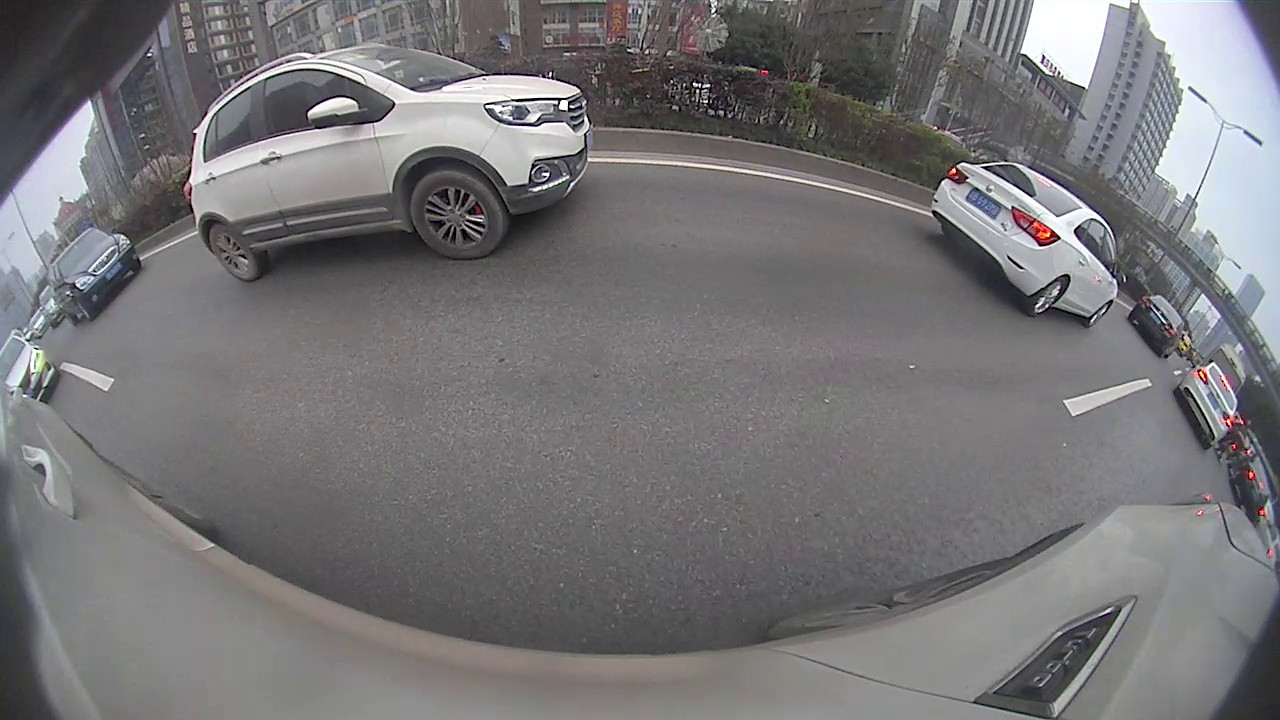bus: (1110, 194, 1268, 366), (128, 185, 336, 305)
car: (1062, 242, 1220, 347), (324, 173, 444, 212), (1218, 352, 1269, 422), (825, 167, 897, 209), (759, 159, 821, 198)
front: (1072, 255, 1095, 282)
rear: (1162, 304, 1188, 336), (774, 178, 783, 192), (852, 189, 859, 203)
